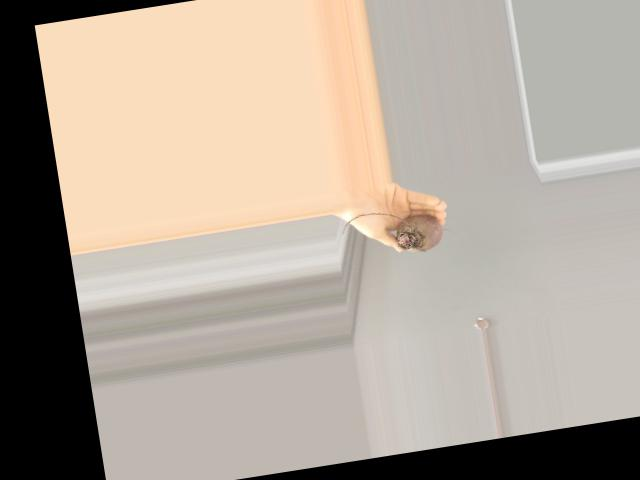beet: (341, 199, 457, 262)
